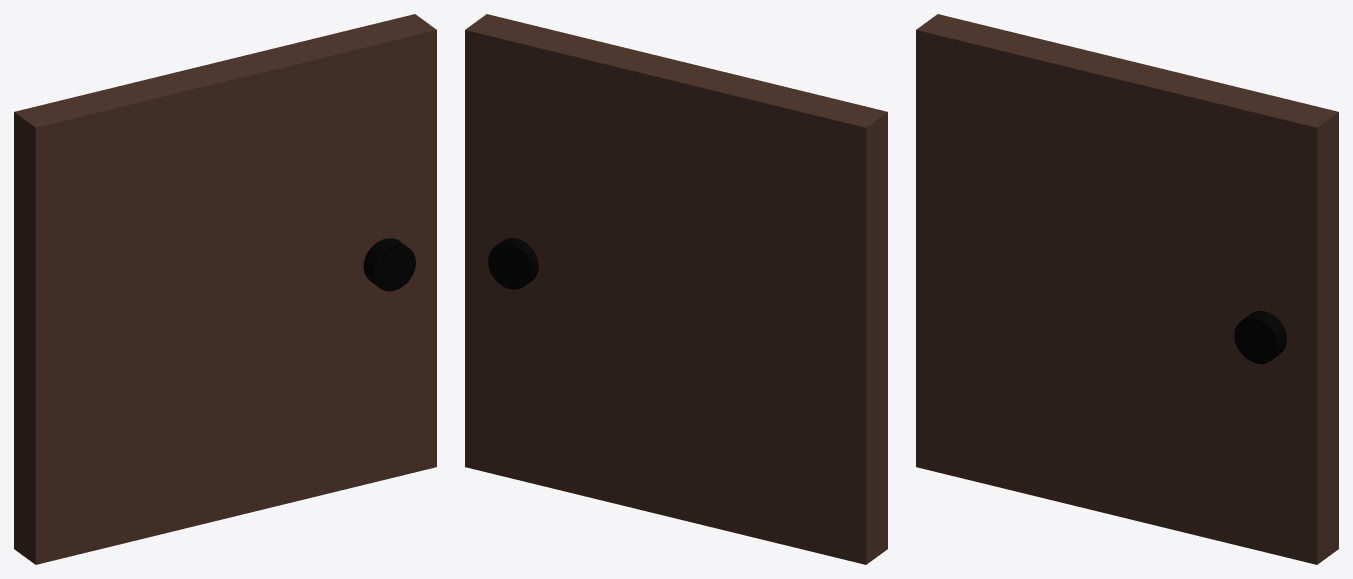
File: door.fbx
The picture shows the model from 3 angles, left to right: view 1: azimuth 30°, elevation 25°; view 2: azimuth 150°, elevation 25°; view 3: azimuth 330°, elevation 25°; orthographic projection.
Parts seen in each view (by area): view 1: Cube, Cylinder; view 2: Cube, Cylinder; view 3: Cube, Cylinder.
Boxes of the visible parts, x1,y1,x2,y2 form: Cube: [14, 14, 436, 564]; Cylinder: [363, 238, 415, 291]; Cube: [465, 14, 887, 564]; Cylinder: [488, 238, 538, 289]; Cube: [916, 14, 1338, 564]; Cylinder: [1234, 311, 1286, 363].
Size of the model in its own units: 233 by 242 by 39.6.
